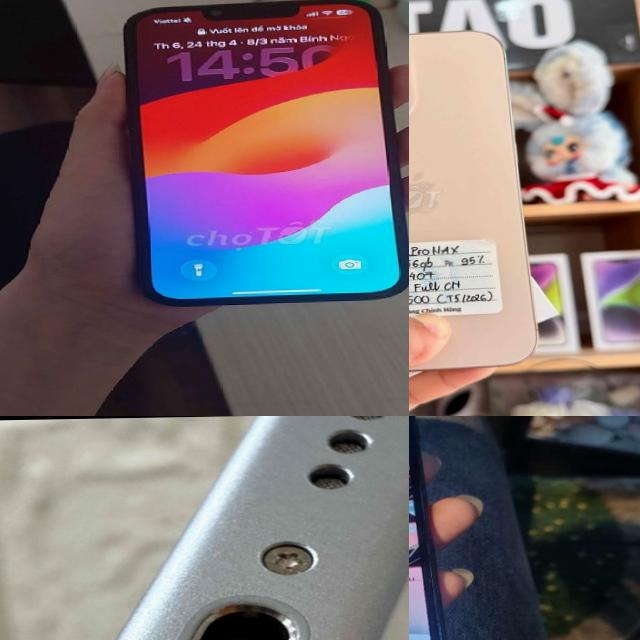gen_15: (0, 416, 409, 640)
gen_16: (124, 0, 409, 306), (409, 26, 546, 373)
gen_7_8: (409, 416, 456, 640)
scratch: (416, 536, 452, 640)
